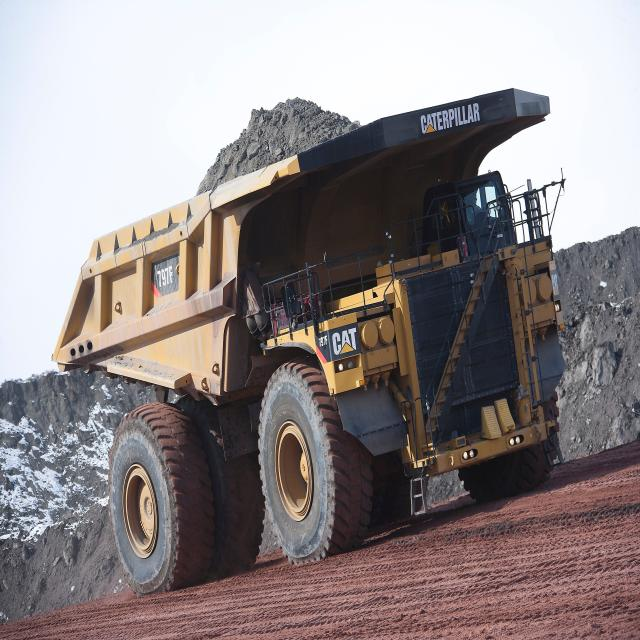dump_truck: (50, 76, 573, 596)
